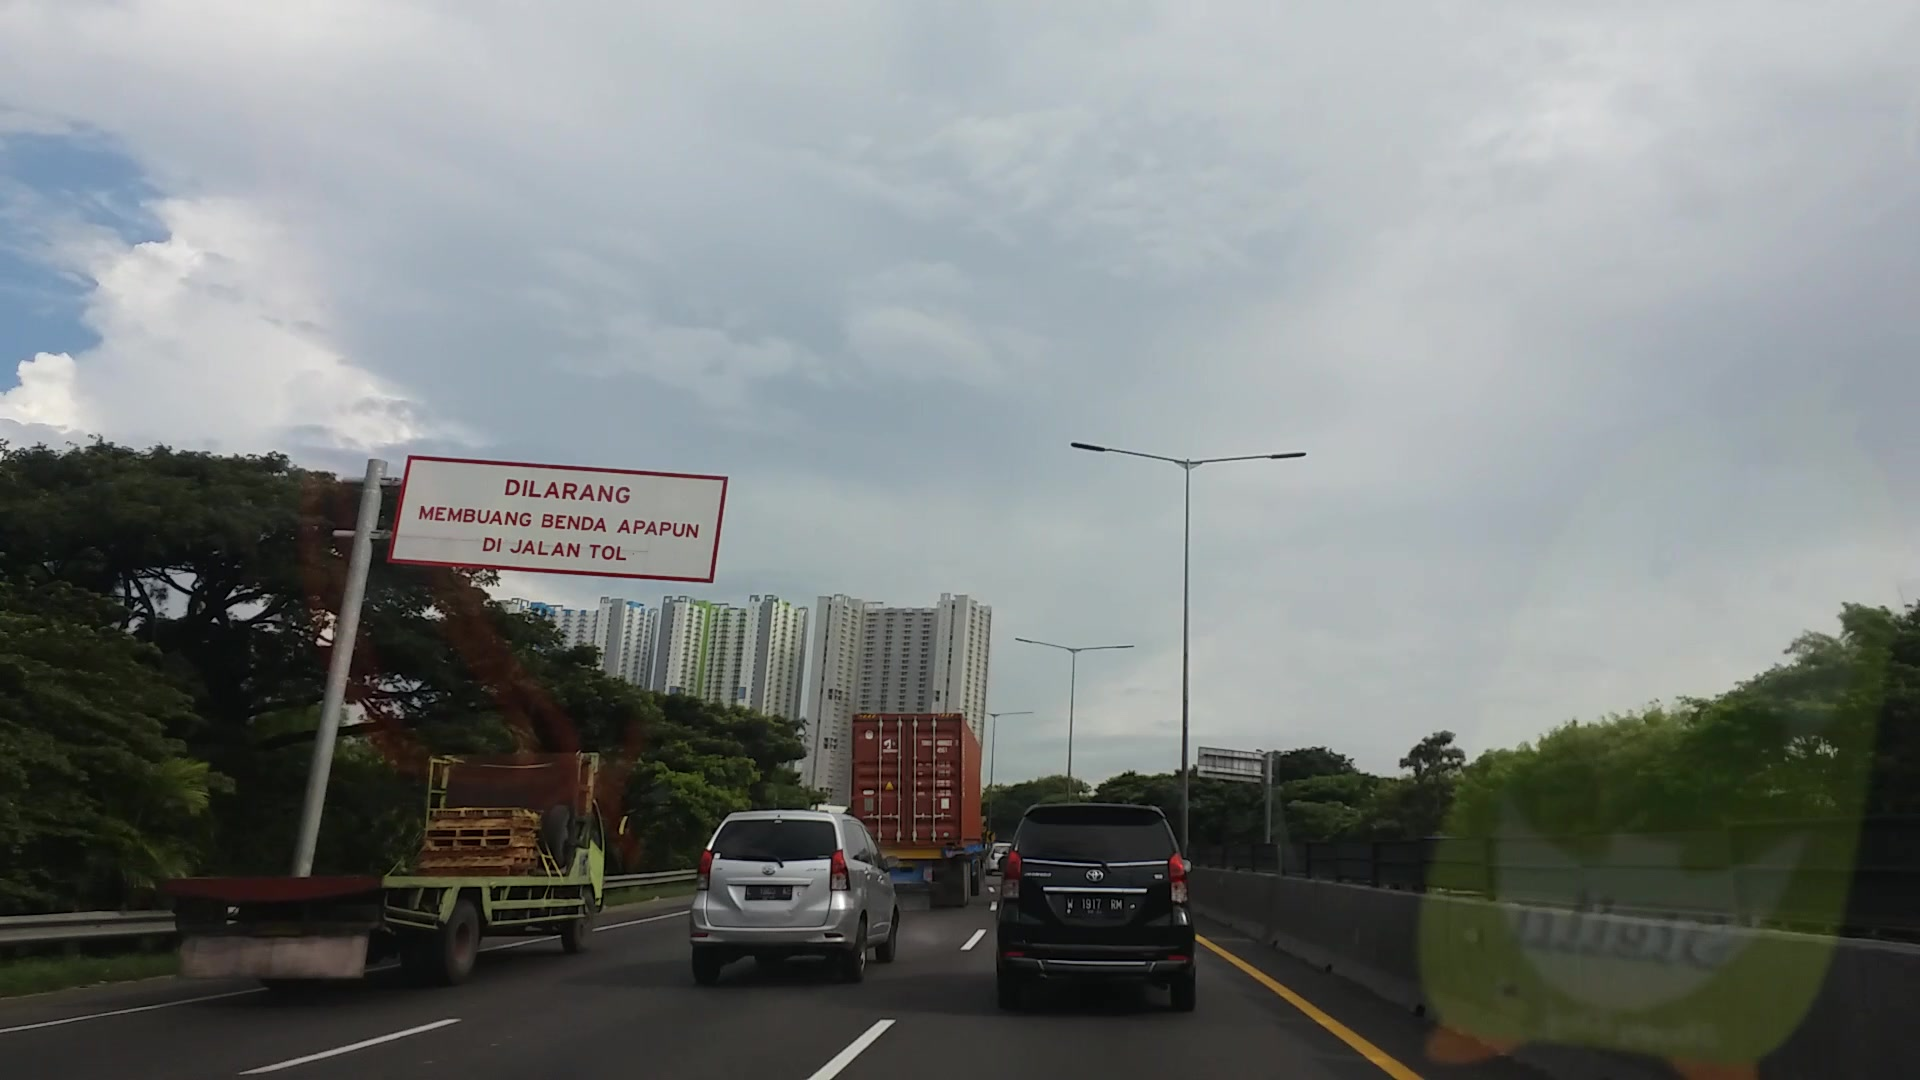plate_positive: (1064, 895, 1125, 918)
